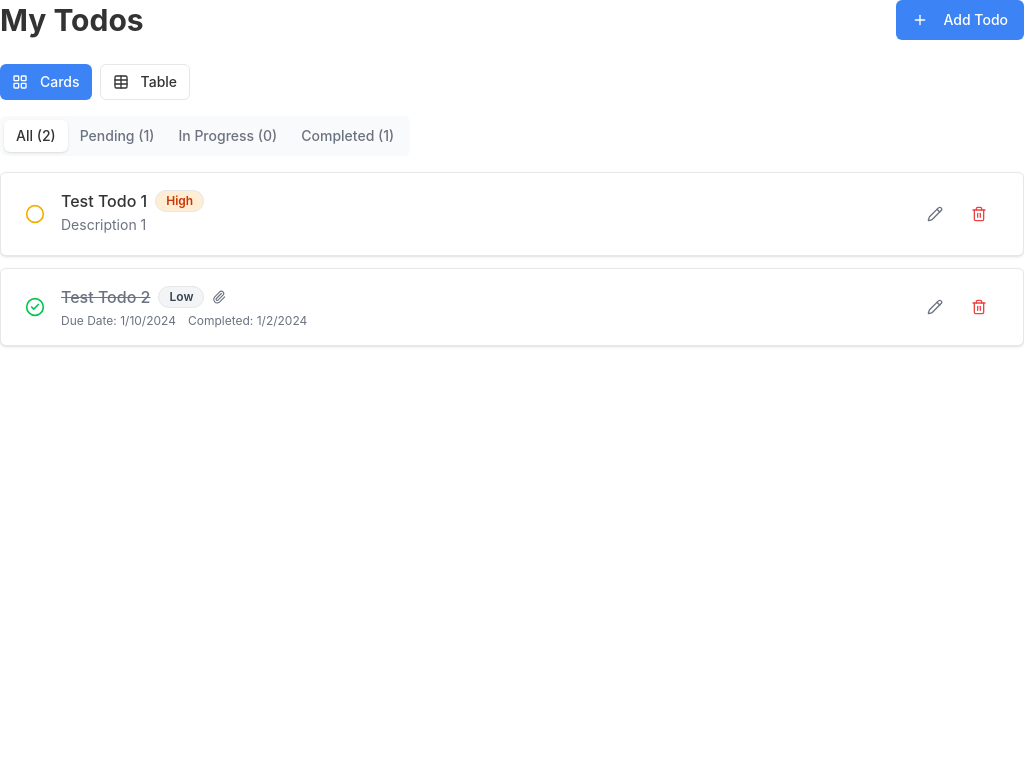
it: TodoList › edit dialog opens when edit button clicked
The width and height of the screenshot is (1024, 768).
Check: the text "Test Todo 1" is shown, box left=61, top=189, right=147, bottom=213
Click the button titled "Edit" in the row of "High": (935, 214) left=915, top=194, right=955, bottom=234
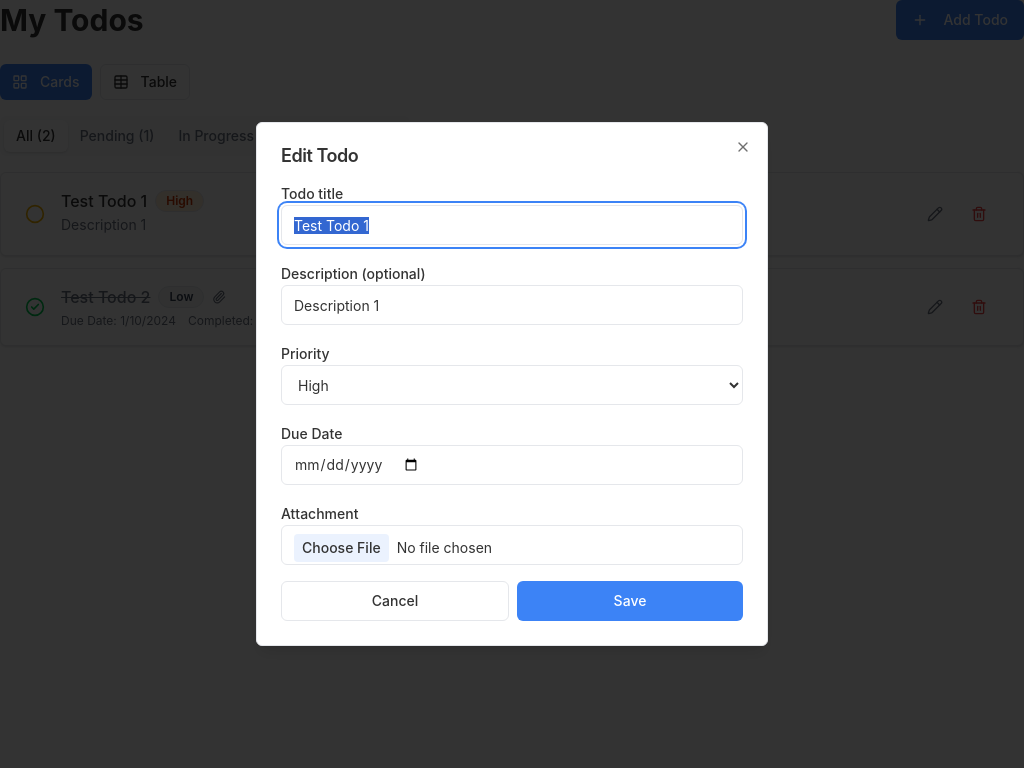
Check: the dialog is shown, box left=256, top=122, right=768, bottom=646
Check: the heading "Edit Todo" is shown, box left=281, top=145, right=358, bottom=166
